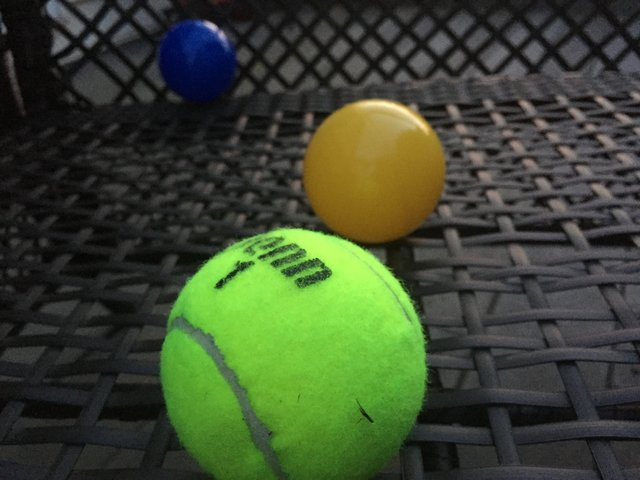Ball: (304, 101, 444, 238)
